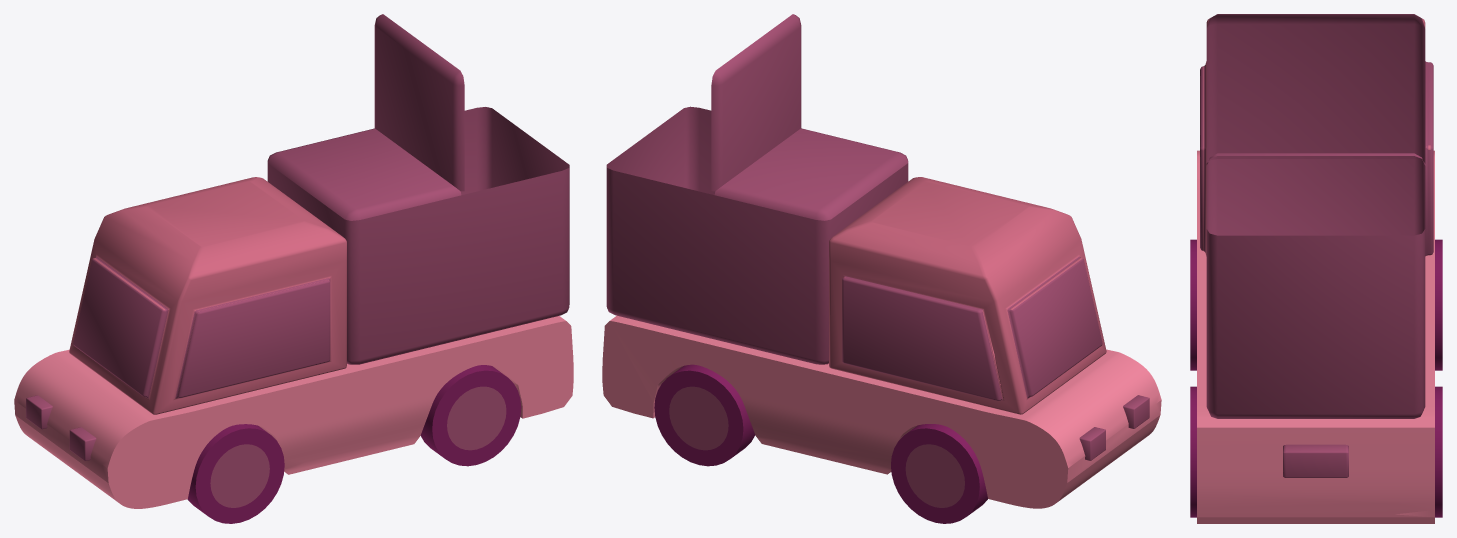
File: dostawczak-zamykanie.gltf
3 renders of one model, left to right at view 1: azimuth 30°, elevation 25°; view 2: azimuth 150°, elevation 25°; view 3: azimuth 270°, elevation 25°, orthographic. The views are drawn at different scales.
Parts seen in each view (by area): view 1: Circle.007, Cube.008; view 2: Circle.007, Cube.008; view 3: Circle.007, Cube.008.
Boxes of the visible parts, bbox=[...] form: Circle.007: bbox=[14, 107, 573, 523]; Cube.008: bbox=[374, 14, 464, 191]; Circle.007: bbox=[602, 106, 1161, 523]; Cube.008: bbox=[711, 14, 801, 191]; Circle.007: bbox=[1190, 18, 1442, 523]; Cube.008: bbox=[1206, 14, 1425, 163].
Bounding box in the file's own units: 6.48 × 4.99 × 2.31.
Materials: 5 (5 with a texture image).
